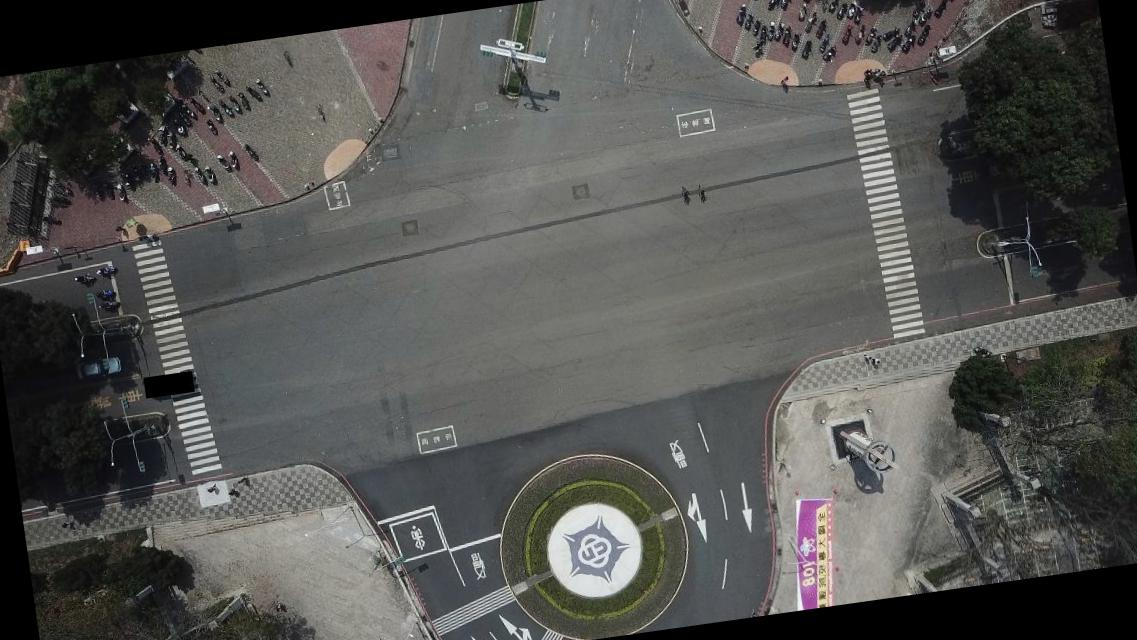vehicle: (73, 356, 123, 380)
